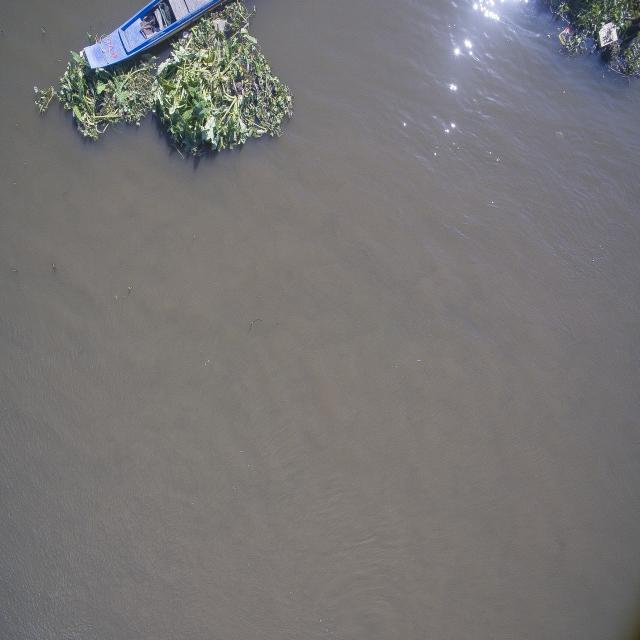plastic: (592, 16, 630, 64), (552, 24, 586, 58)
